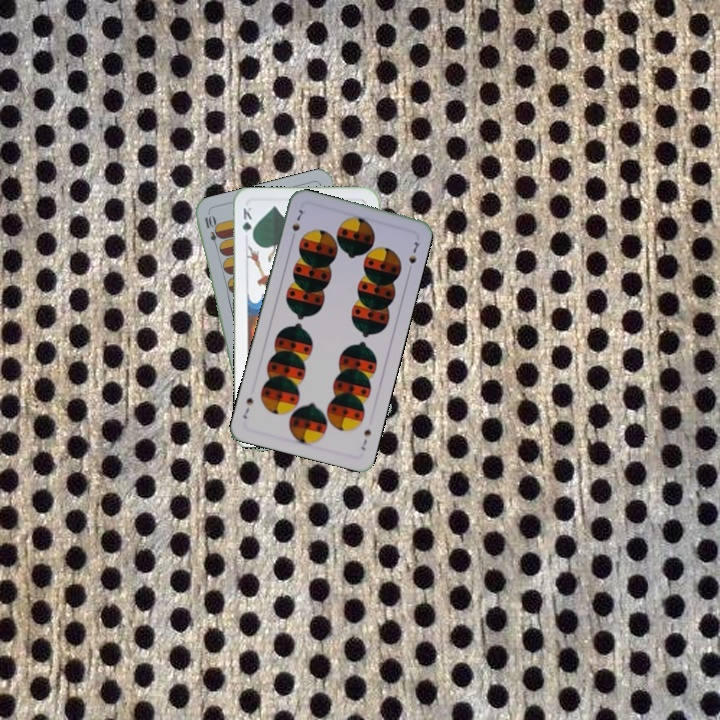E10: (200, 211, 222, 252)
GK: (238, 203, 255, 242)
S7: (287, 205, 306, 243), (357, 425, 374, 453)
